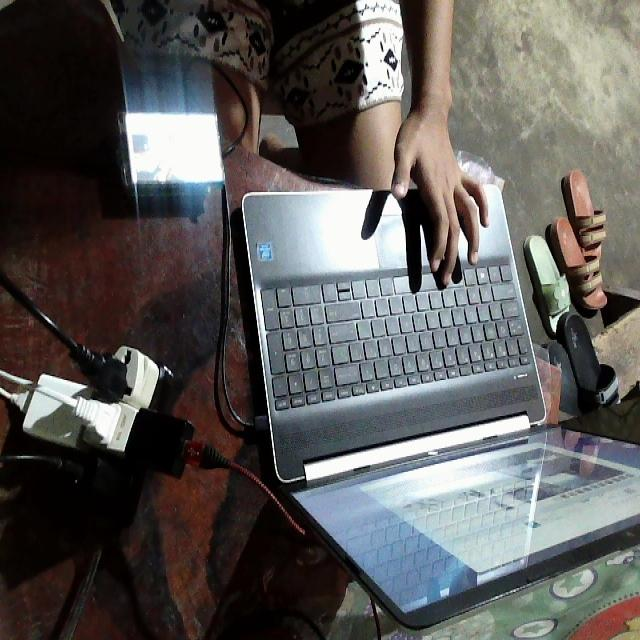-: (15, 340, 192, 527)
